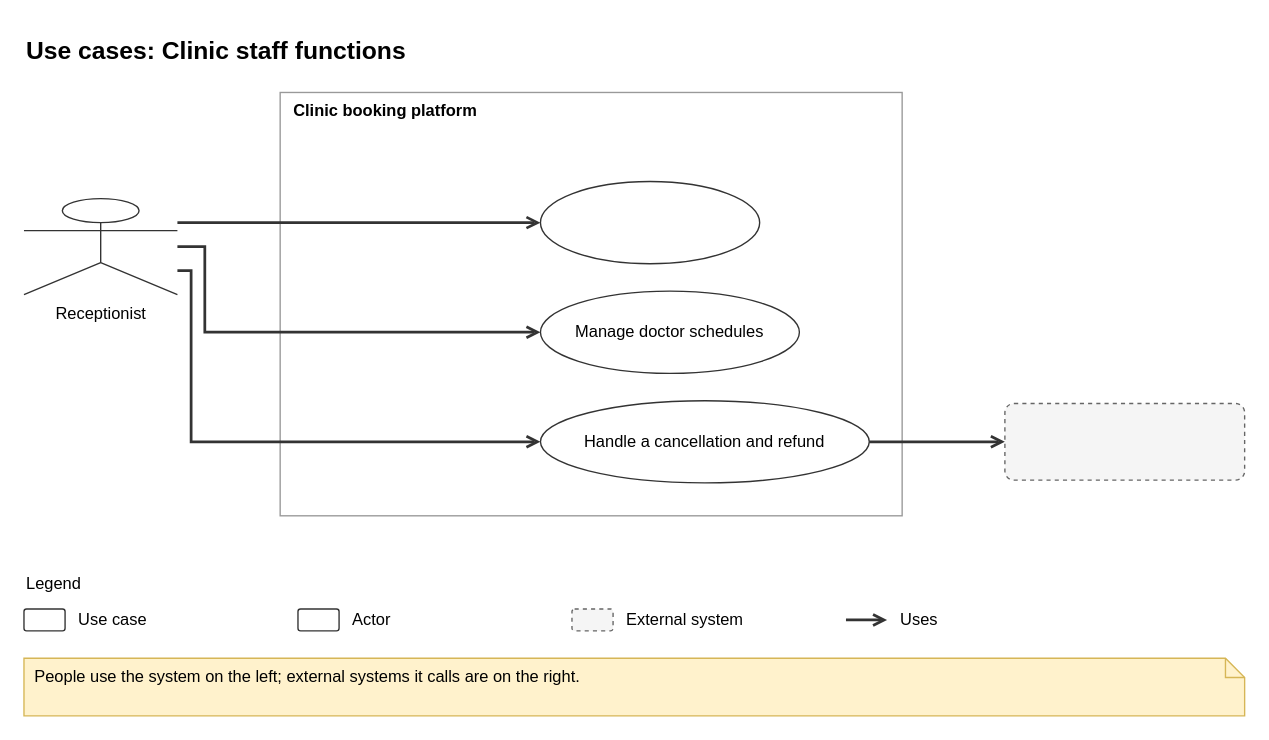
This 1269x740 diagram has some shape labels left out. The centre of each missing label's shape, as x and y in pixels:
"Card payment provider" belongs at pixel 1124 441.
"Check in a patient" belongs at pixel 649 222.
